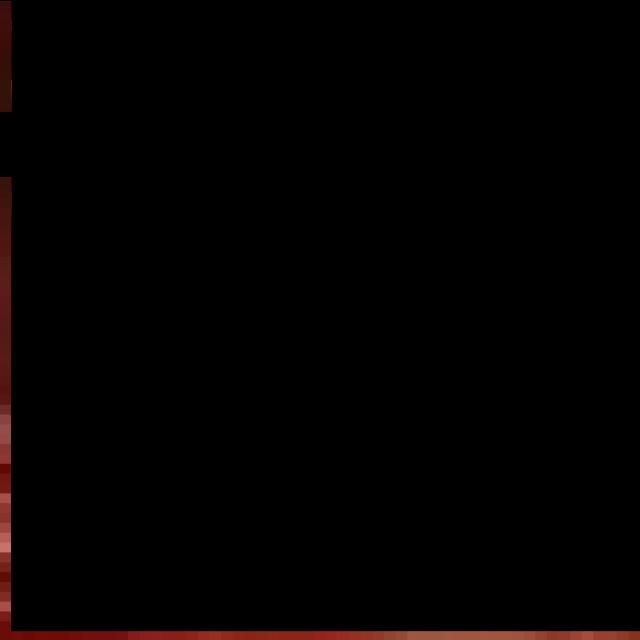fire: (11, 0, 640, 630)
